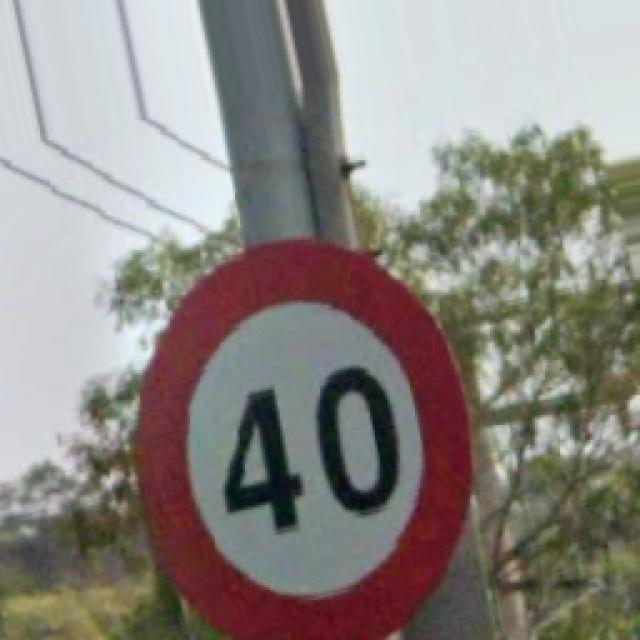Speed Limit -40-: (135, 240, 468, 638)
